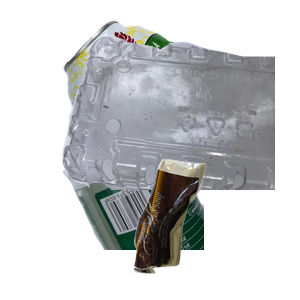glass: (60, 120, 300, 300)
metal: (60, 18, 300, 198)
plastic: (60, 32, 300, 212)
trash: (131, 157, 300, 300)
